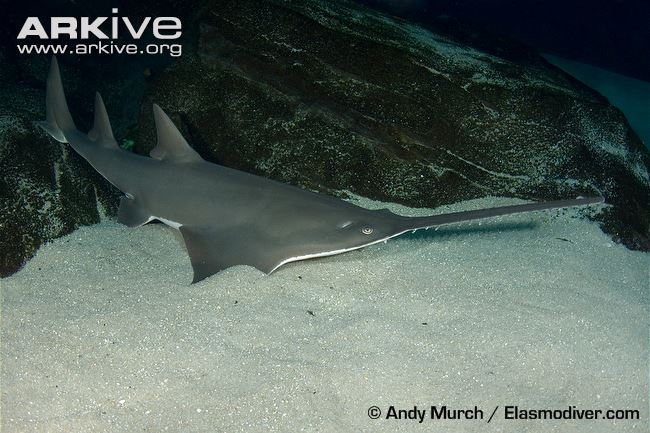shark: (22, 50, 613, 306)
